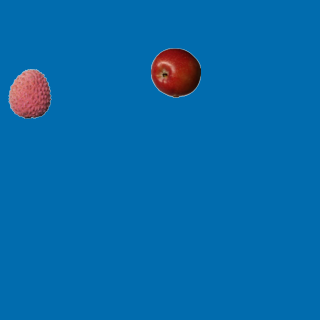Apple Braeburn: (150, 47, 200, 97)
Lychee: (4, 68, 54, 118)
